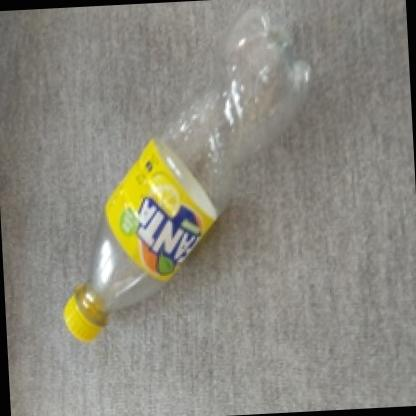plastic_bottles: (36, 0, 340, 357)
